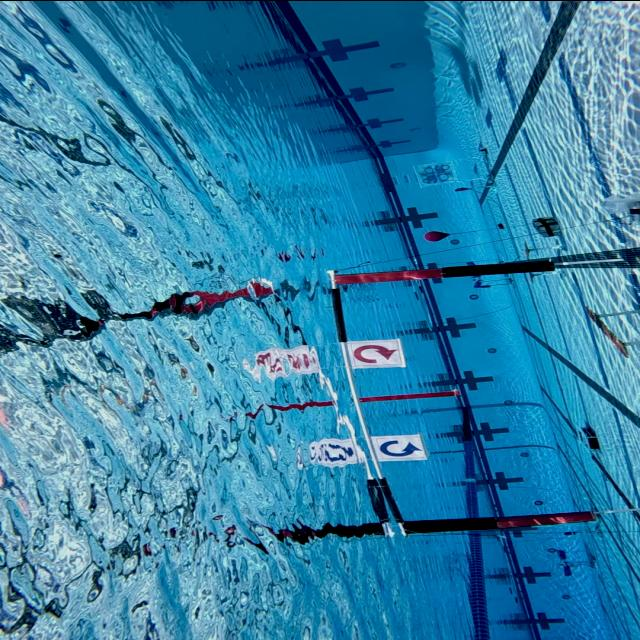blue_side: (371, 434, 428, 462)
red_side: (345, 338, 407, 368)
